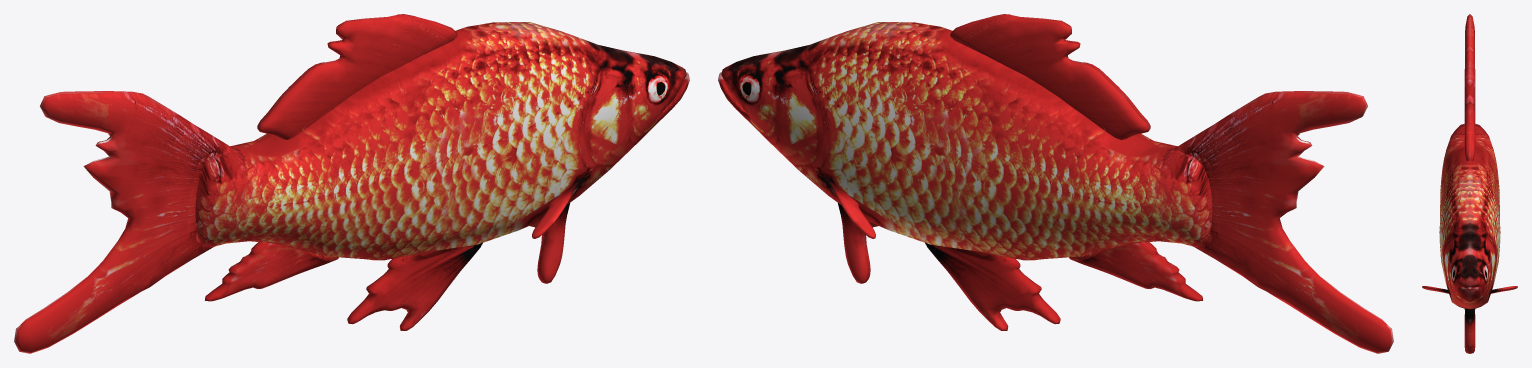
The model's file is fish3.glb.
3 renders of one model, left to right at view 1: azimuth 30°, elevation 25°; view 2: azimuth 150°, elevation 25°; view 3: azimuth 270°, elevation 25°, orthographic. The views are drawn at different scales.
Visible parts, largest first — view 1: fish-material; view 2: fish-material; view 3: fish-material.
Part boxes in pixels (x1,y1,x2,y2): fish-material: (14,14,689,353); fish-material: (718,14,1393,353); fish-material: (1422,14,1517,353).
Bounding box in the file's own units: 6.34 × 2.91 × 1.27.
Materials: 1 (1 with a texture image).
